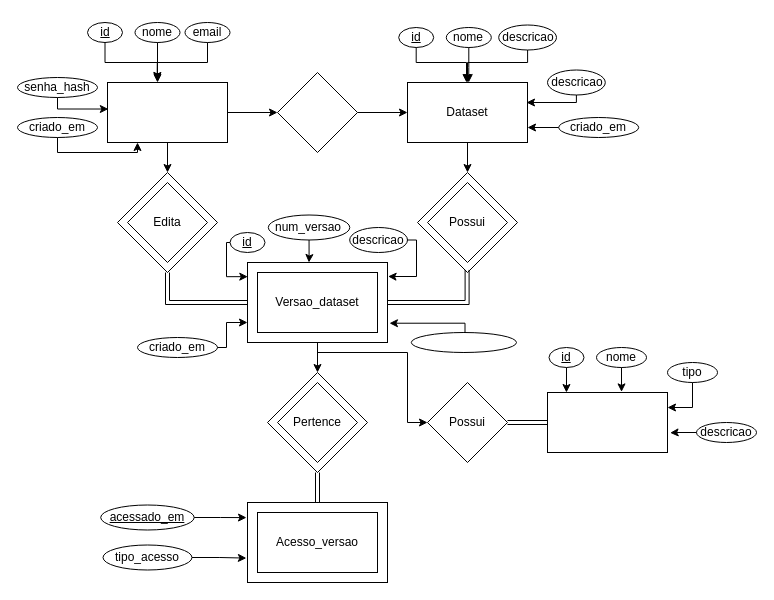
The diagram is 774 pixels wide and 600 high, and some of its shapes have lost their labels. The box of each missing label's shape, as (x1, y1, x2, y2) in pixels:
caminho_arquivo: (410, 332, 516, 352)
Cria: (276, 72, 358, 152)
Feature: (546, 392, 668, 452)
Usuário: (106, 82, 228, 142)
